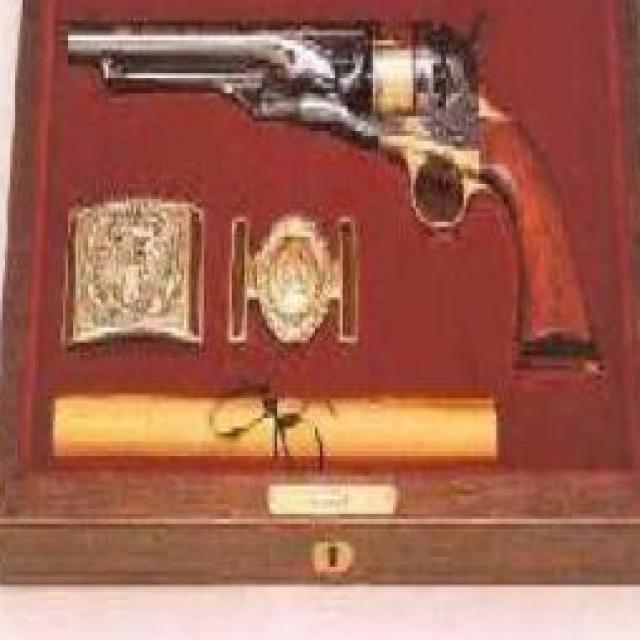pistol: (61, 0, 603, 370)
